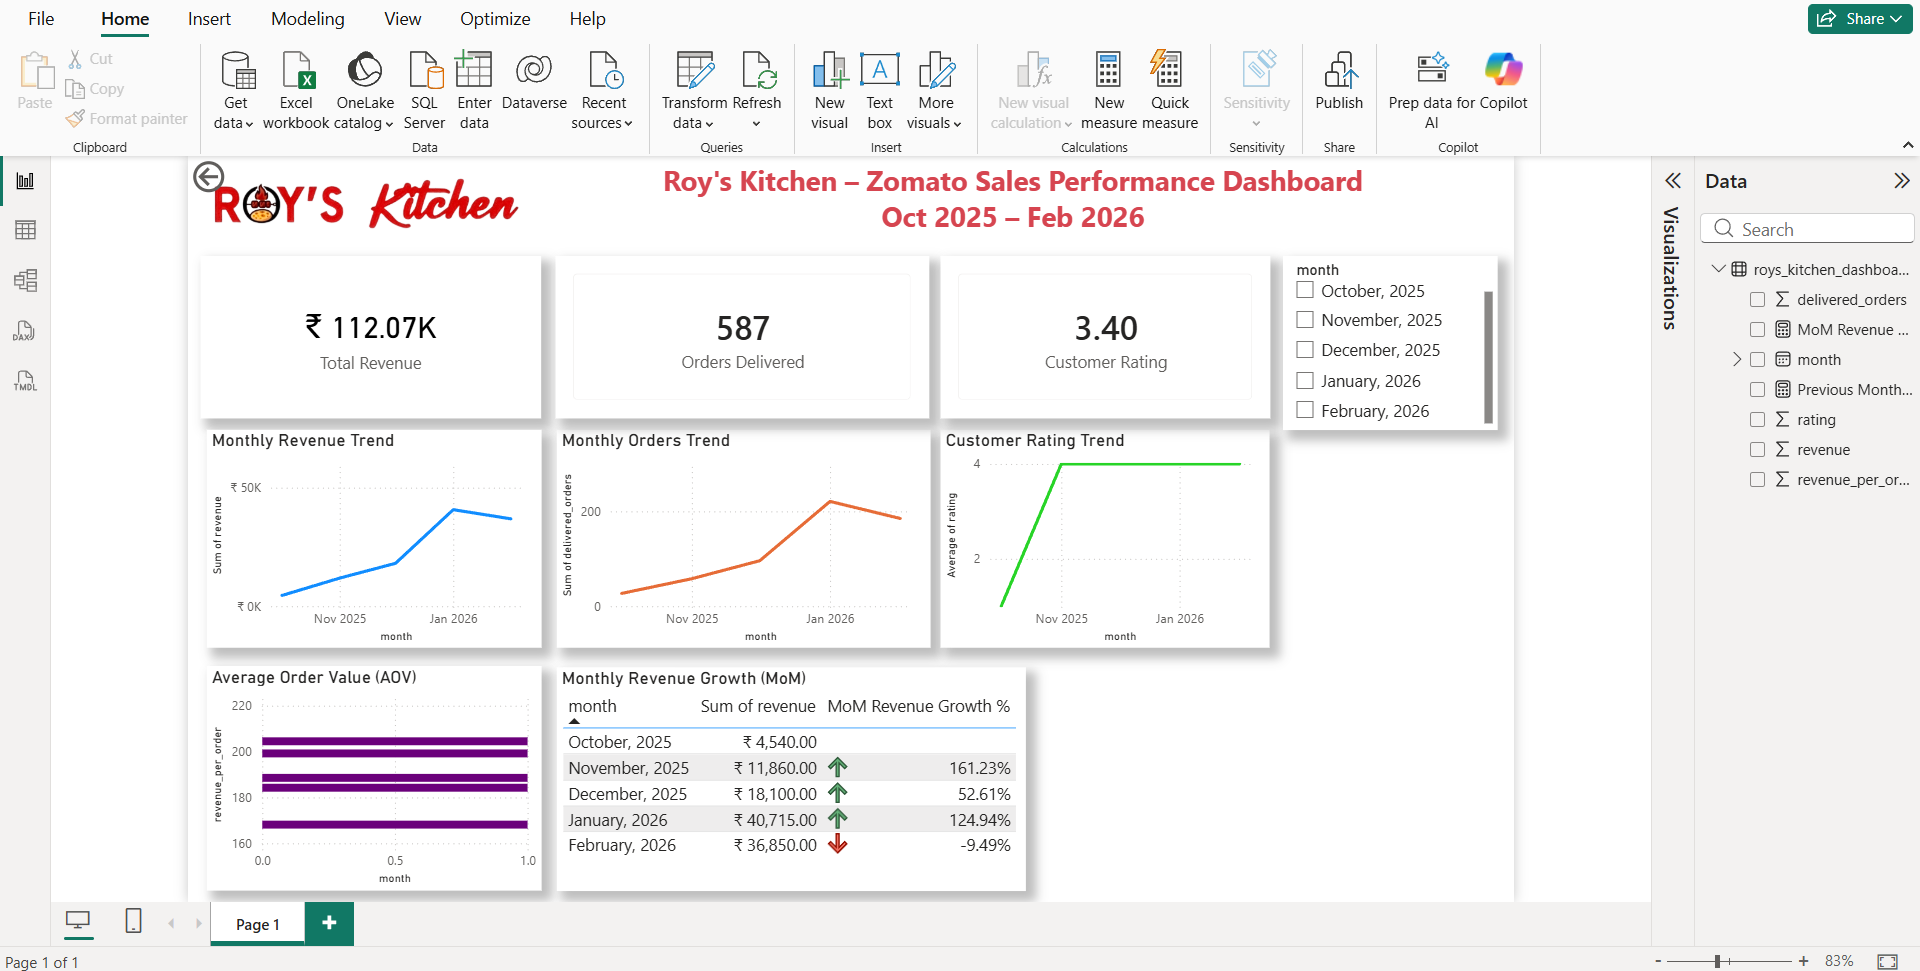

The dashboard page shown, as its layout file describes it:
{"tool":"powerbi","page":{"name":"Page 1","canvas":[1280,720],"ordinal":0},"visuals":[{"type":"card","fields":{"Values":["Sum(roys_kitchen_dashboard_data.revenue)"]},"box":[12.2,96.6,328.9,156.5],"z":0},{"type":"lineChart","title":"Monthly Revenue Trend","fields":{"Y":["Sum(roys_kitchen_dashboard_data.revenue)"],"Category":["roys_kitchen_dashboard_data.month"]},"box":[18.3,264.1,322.8,210.3],"z":1000},{"type":"lineChart","title":"Monthly Orders Trend","fields":{"Y":["Sum(roys_kitchen_dashboard_data.delivered_orders)"],"Category":["roys_kitchen_dashboard_data.month"]},"box":[355.8,264.1,360.7,210.3],"z":2000},{"type":"lineChart","title":"Customer Rating Trend","fields":{"Y":["Avg(roys_kitchen_dashboard_data.rating)"],"Category":["roys_kitchen_dashboard_data.month"]},"box":[726.4,264.1,317.9,210.3],"z":3000},{"type":"clusteredBarChart","title":"Average Order Value (AOV)","fields":{"Category":["roys_kitchen_dashboard_data.revenue_per_order"],"Y":["CountNonNull(roys_kitchen_dashboard_data.month)"]},"box":[18.3,492.8,322.8,216.4],"z":4000},{"type":"cardVisual","fields":{"Data":["Sum(roys_kitchen_dashboard_data.delivered_orders)"]},"box":[354.6,96.6,360.7,156.5],"z":5000},{"type":"cardVisual","fields":{"Data":["Avg(roys_kitchen_dashboard_data.rating)"]},"box":[726.3,96.5,318.5,156.8],"z":6000},{"type":"slicer","fields":{"Values":["roys_kitchen_dashboard_data.month"]},"box":[1056.8,96.5,207.5,167.7],"z":7000},{"type":"textbox","box":[328.2,0,936.2,86.9],"z":8000},{"type":"image","box":[12.2,0,315.5,86.8],"z":8001},{"type":"tableEx","title":"Monthly Revenue Growth (MoM)","fields":{"Values":["roys_kitchen_dashboard_data.month","Sum(roys_kitchen_dashboard_data.revenue)","roys_kitchen_dashboard_data.MoM Revenue Growth %"]},"box":[355.9,493.4,452.4,216],"z":8002},{"type":"actionButton","box":[0,0,100,40],"z":8003}]}

Visuals, with their boxes on the page's 1280x720 design canvas (x1, y1, x2, y2). These are canvas units, not pixel positions in the 1920x971 screenshot, which may show the page scaled, cropped or inside an application window:
card - Sum(roys_kitchen_dashboard_data.revenue): {"x1": 12, "y1": 97, "x2": 341, "y2": 253}
"Monthly Revenue Trend" lineChart: {"x1": 18, "y1": 264, "x2": 341, "y2": 474}
"Monthly Orders Trend" lineChart: {"x1": 356, "y1": 264, "x2": 716, "y2": 474}
"Customer Rating Trend" lineChart: {"x1": 726, "y1": 264, "x2": 1044, "y2": 474}
"Average Order Value (AOV)" clusteredBarChart: {"x1": 18, "y1": 493, "x2": 341, "y2": 709}
cardVisual - Sum(roys_kitchen_dashboard_data.delivered_orders): {"x1": 355, "y1": 97, "x2": 715, "y2": 253}
cardVisual - Avg(roys_kitchen_dashboard_data.rating): {"x1": 726, "y1": 96, "x2": 1045, "y2": 253}
slicer - roys_kitchen_dashboard_data.month: {"x1": 1057, "y1": 96, "x2": 1264, "y2": 264}
textbox: {"x1": 328, "y1": 0, "x2": 1264, "y2": 87}
image: {"x1": 12, "y1": 0, "x2": 328, "y2": 87}
"Monthly Revenue Growth (MoM)" tableEx: {"x1": 356, "y1": 493, "x2": 808, "y2": 709}
actionButton: {"x1": 0, "y1": 0, "x2": 100, "y2": 40}
